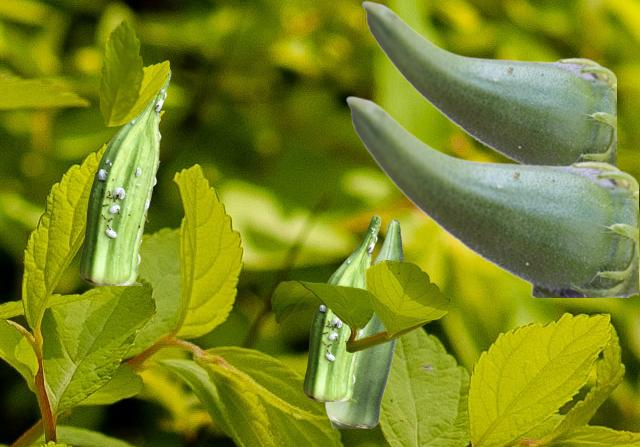okra: (345, 95, 637, 296), (361, 0, 615, 164), (79, 68, 170, 284), (325, 219, 403, 427), (303, 215, 380, 400)
